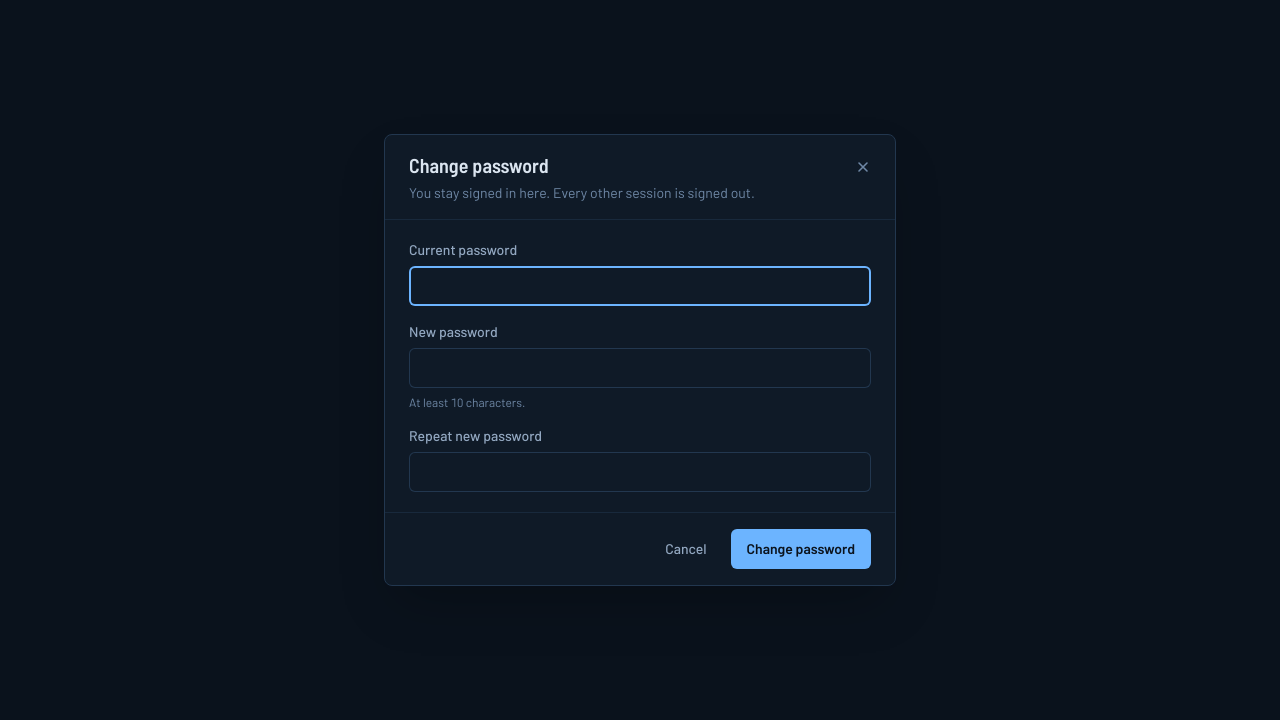
Test: ChangePasswordDialog › checks the form before calling the API
Type "short" into the password field labelled "New password" at (640, 368), box [409,348,871,388]
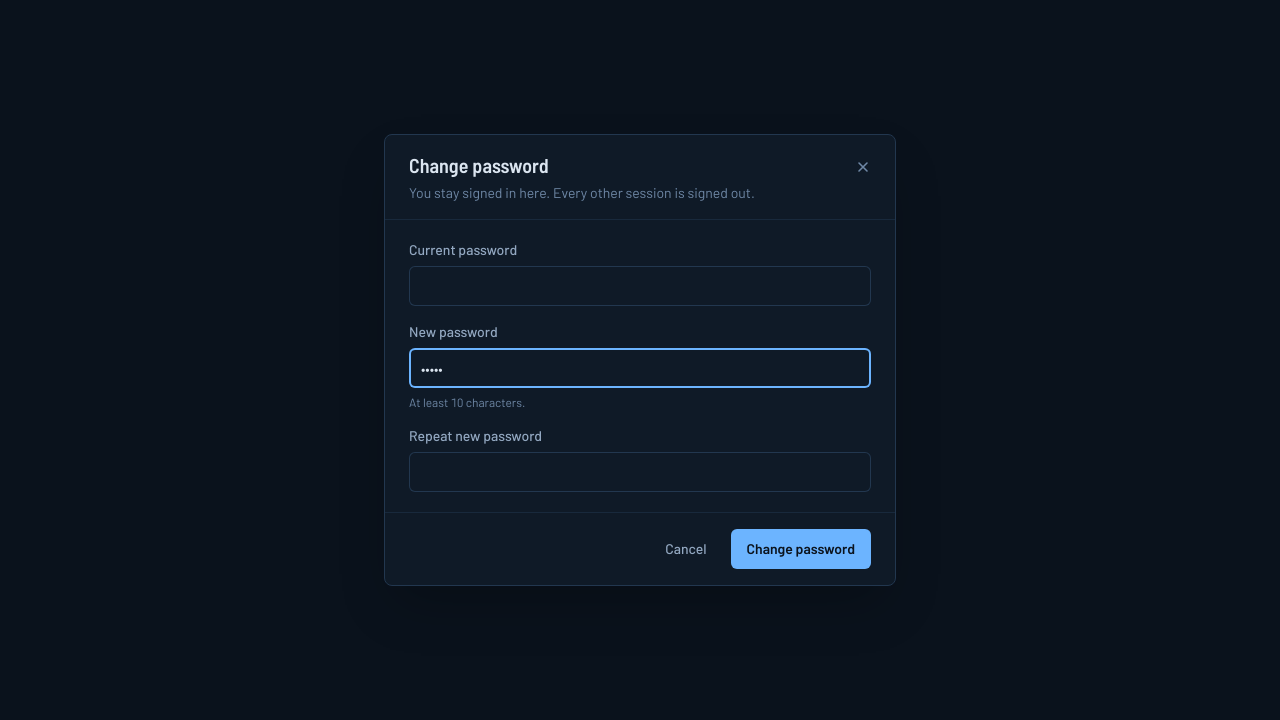
Click the button "Change password" at (801, 549), box [730,529,871,569]
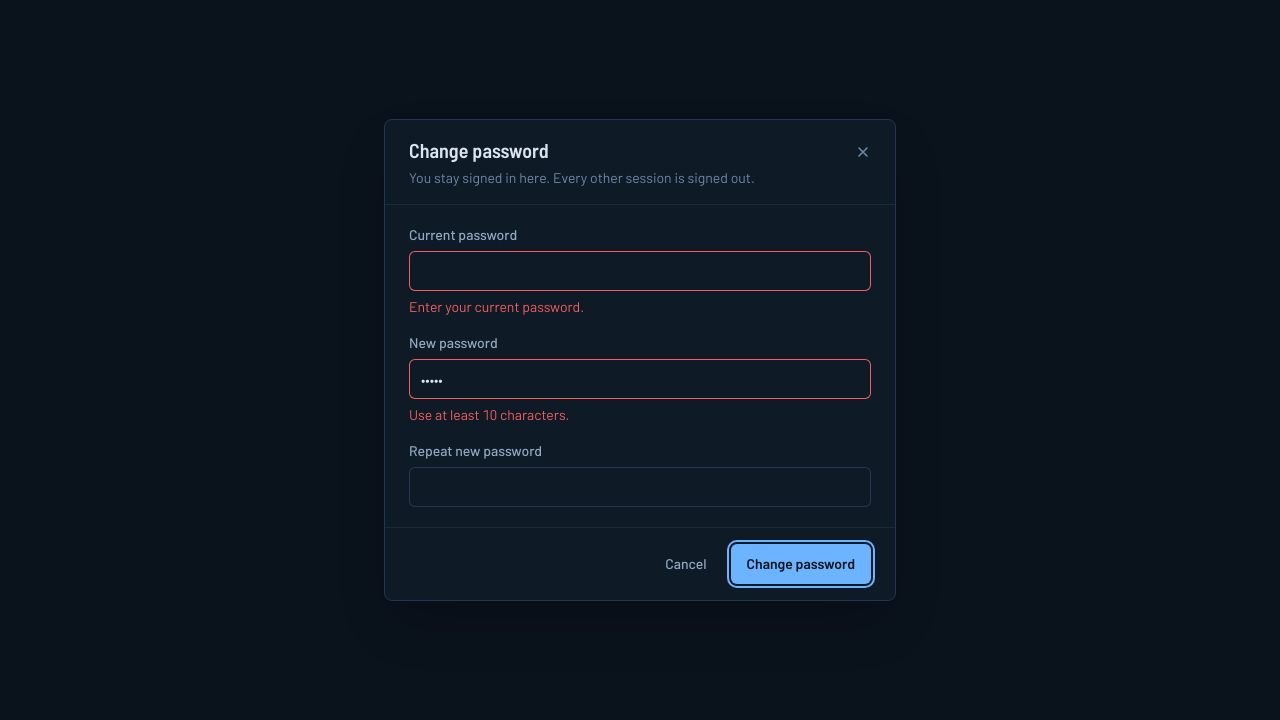
Check: the text "Use at least 10 characters." is shown, box [409,406,570,423]
Check: the text "Enter your current password." is shown, box [409,298,584,315]
